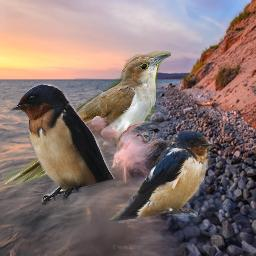Cuckoo: (2, 51, 171, 185)
Swallow: (9, 83, 116, 205), (109, 129, 216, 223)
